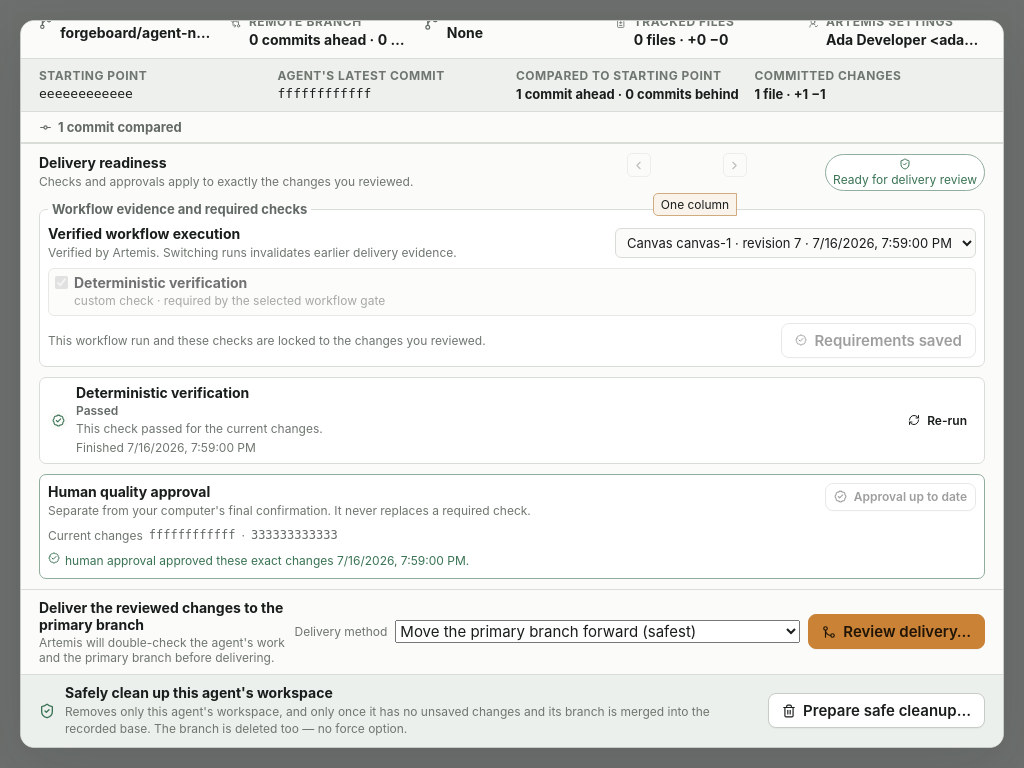
GitReviewDialog › discloses the exact safe cleanup policy before native confirmation and preserves on cancel
The width and height of the screenshot is (1024, 768).
(page scrolled)
What coordinates should you click on to do the following:
click the button "Prepare safe cleanup…"
I would click on:
 (877, 711)
Its box is top-left (768, 693), bottom-right (985, 728).
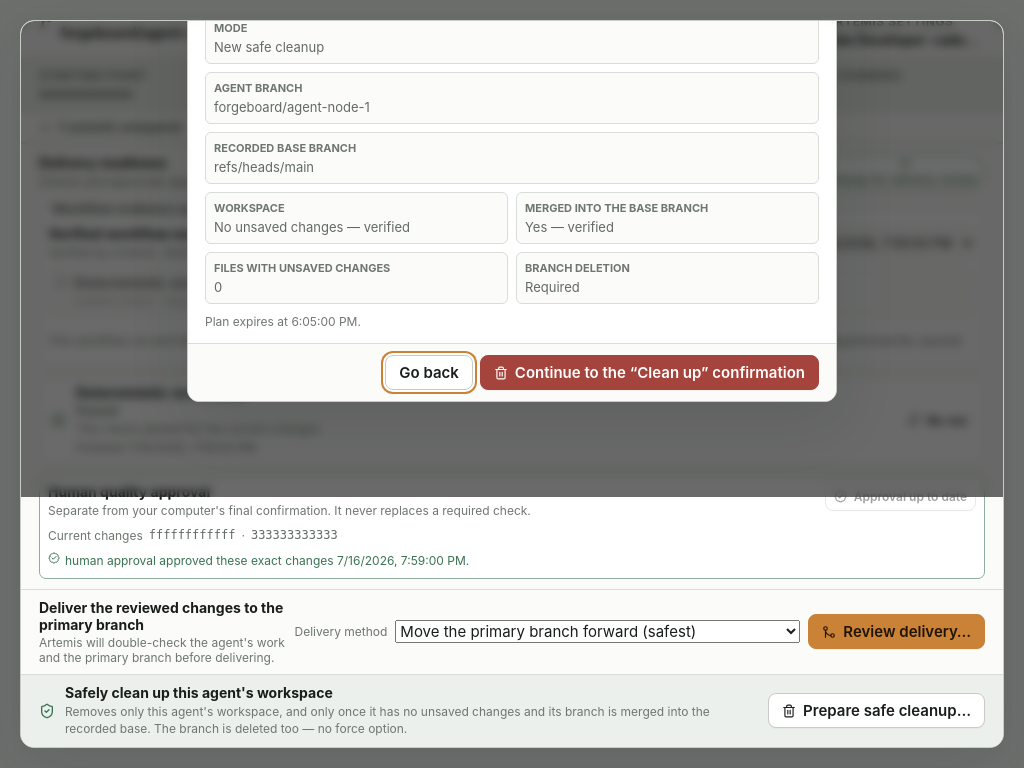
Expected: the dialog "Review safe cleanup of the agent's workspace" shows "forgeboard/agent-node-1", top-left (214, 99), bottom-right (370, 115)
Expected: the dialog "Review safe cleanup of the agent's workspace" shows "refs/heads/main", top-left (214, 159), bottom-right (314, 175)
Expected: the dialog "Review safe cleanup of the agent's workspace" shows "No unsaved changes — verified", top-left (214, 219), bottom-right (410, 235)
What coordinates should you click on to do the following:
click the button "Continue to the “Clean up” confirmation"
I would click on:
 (649, 373)
Its box is top-left (480, 355), bottom-right (819, 390).
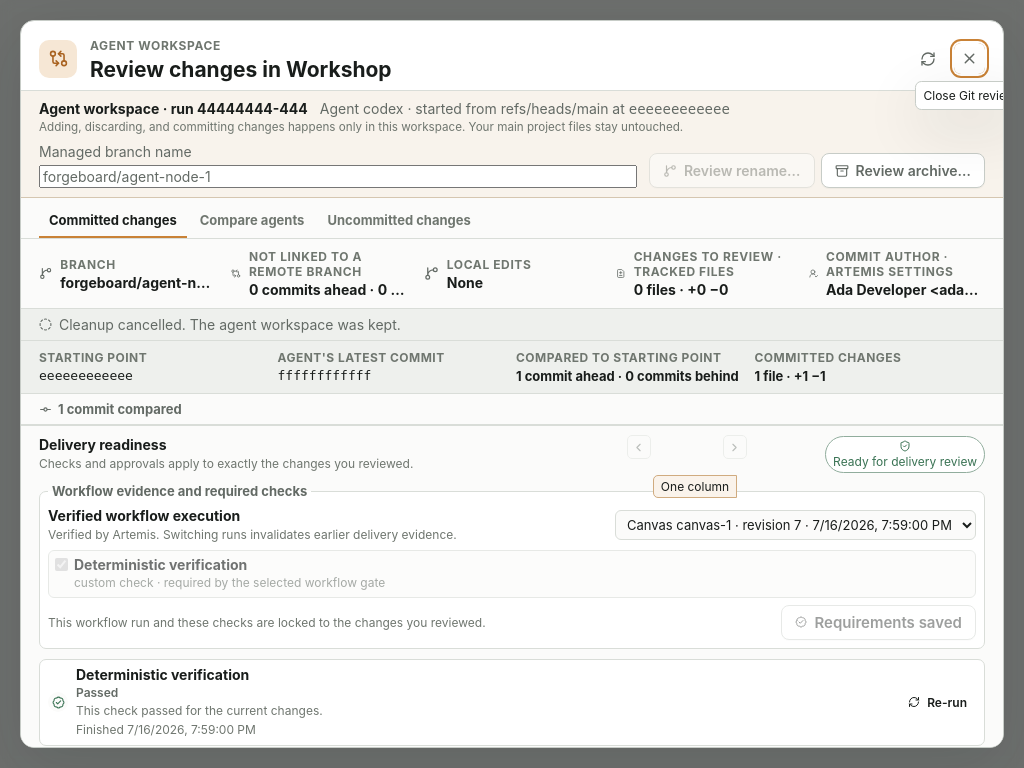
Expected: the text "Cleanup cancelled. The agent workspace was kept." is shown, top-left (21, 309), bottom-right (1003, 341)
